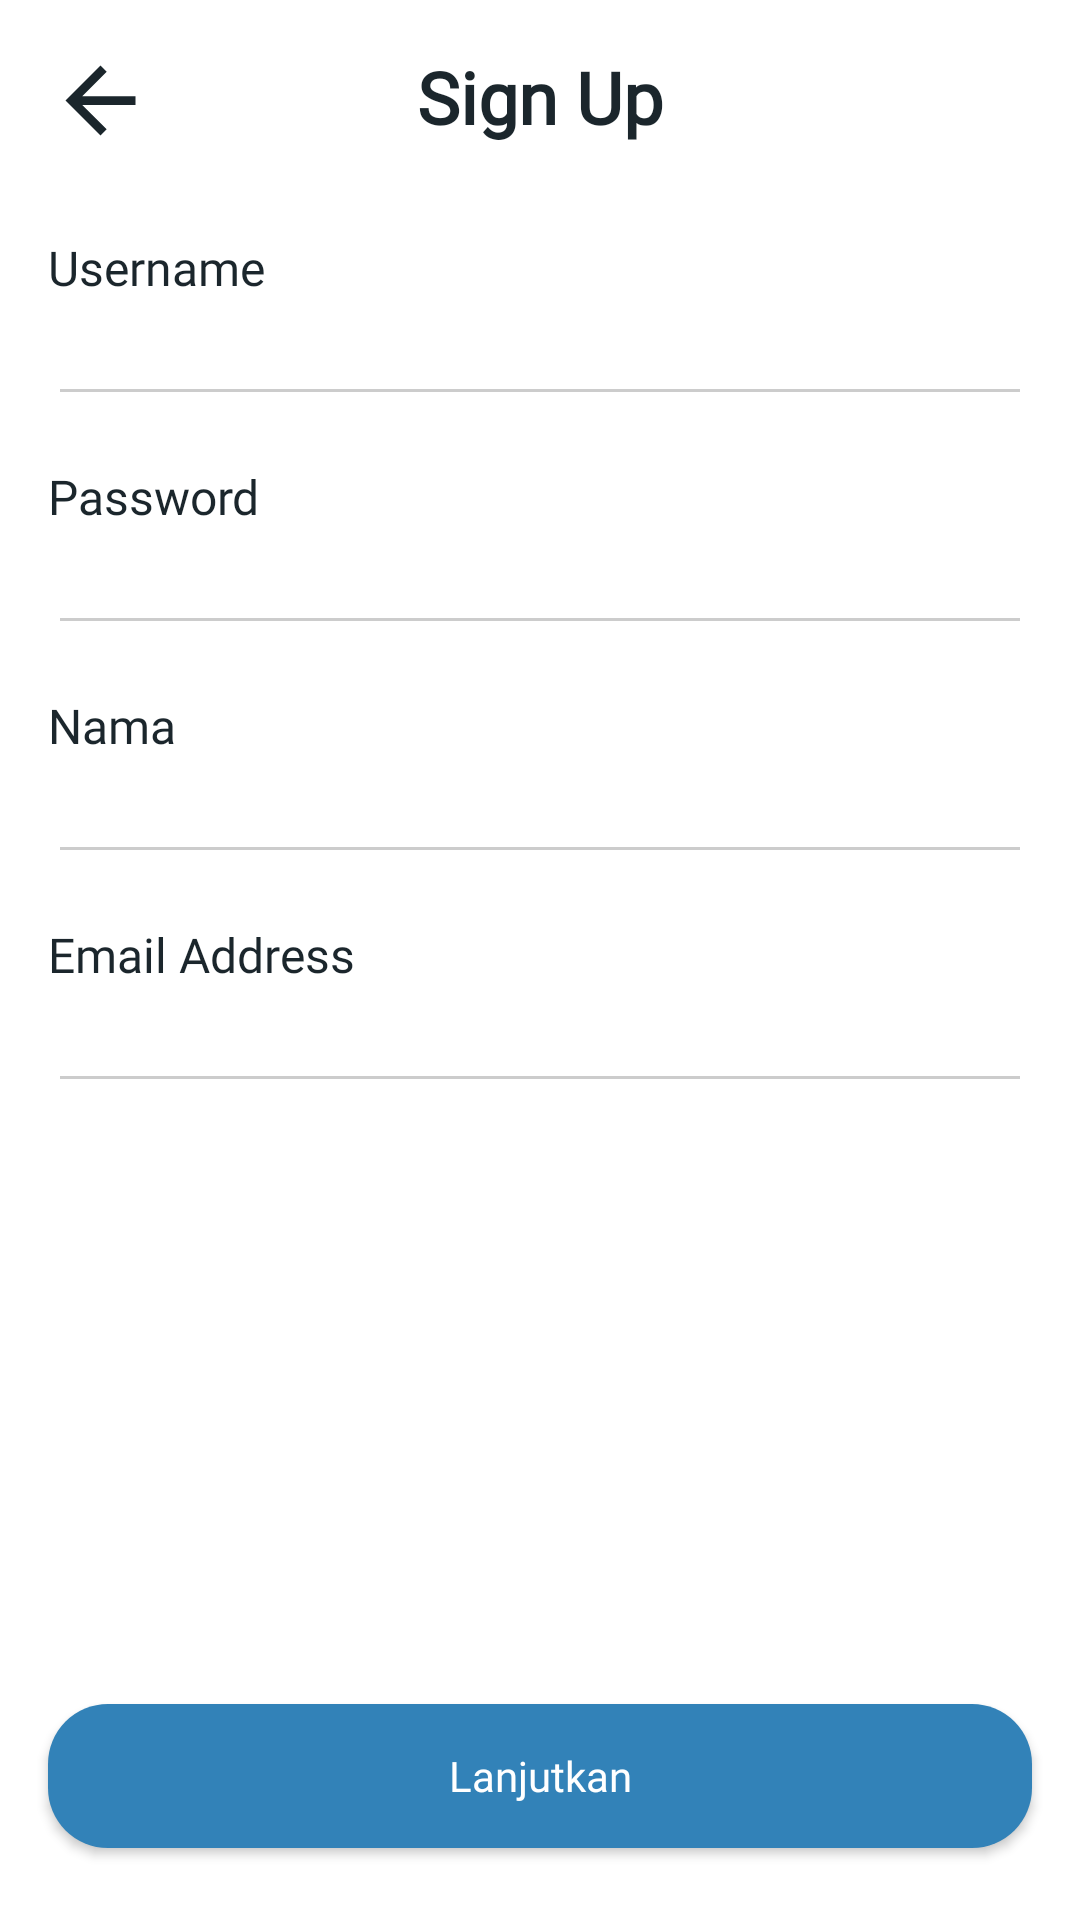

Icons on this 1080x1920 Android screen, each with the point to tap as [x,y]:
arrow back: [100,100]
